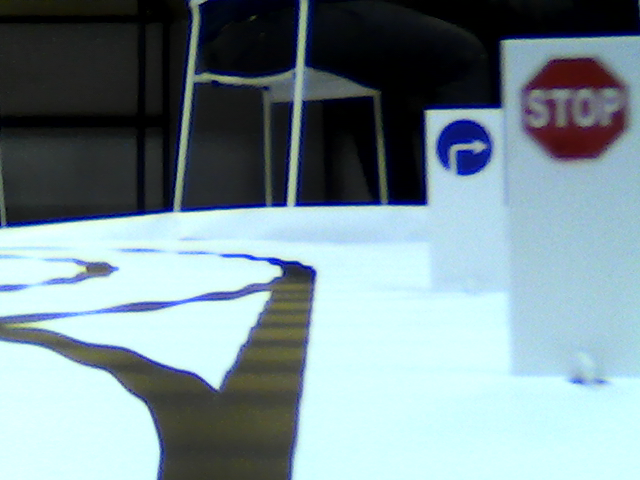Right: (435, 112, 494, 174)
Stop: (519, 55, 629, 168)
